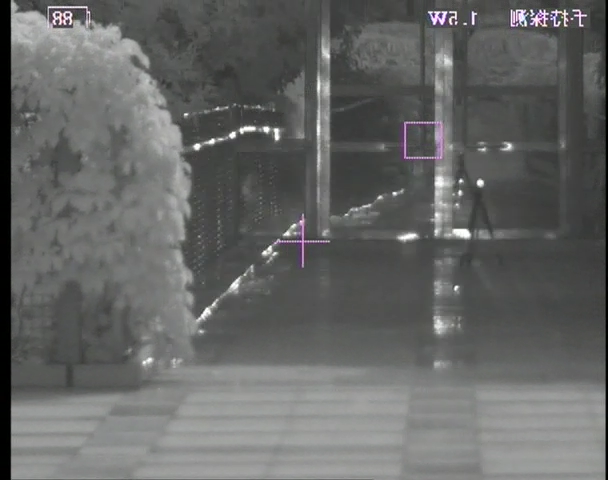my: (475, 178, 485, 188)
